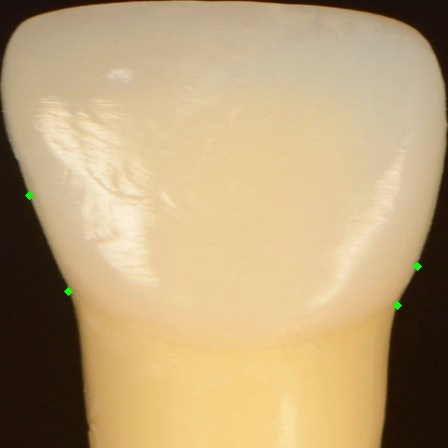coin_1: (68, 291, 88, 311)
coin_2: (29, 195, 49, 215)
coin_3: (397, 305, 417, 325)
coin_4: (417, 266, 437, 286)
